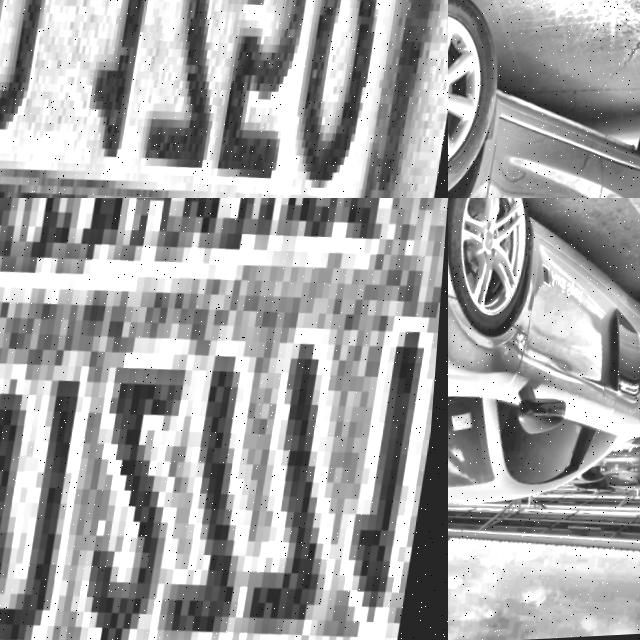license-plate: (0, 198, 448, 640), (0, 0, 448, 198)
